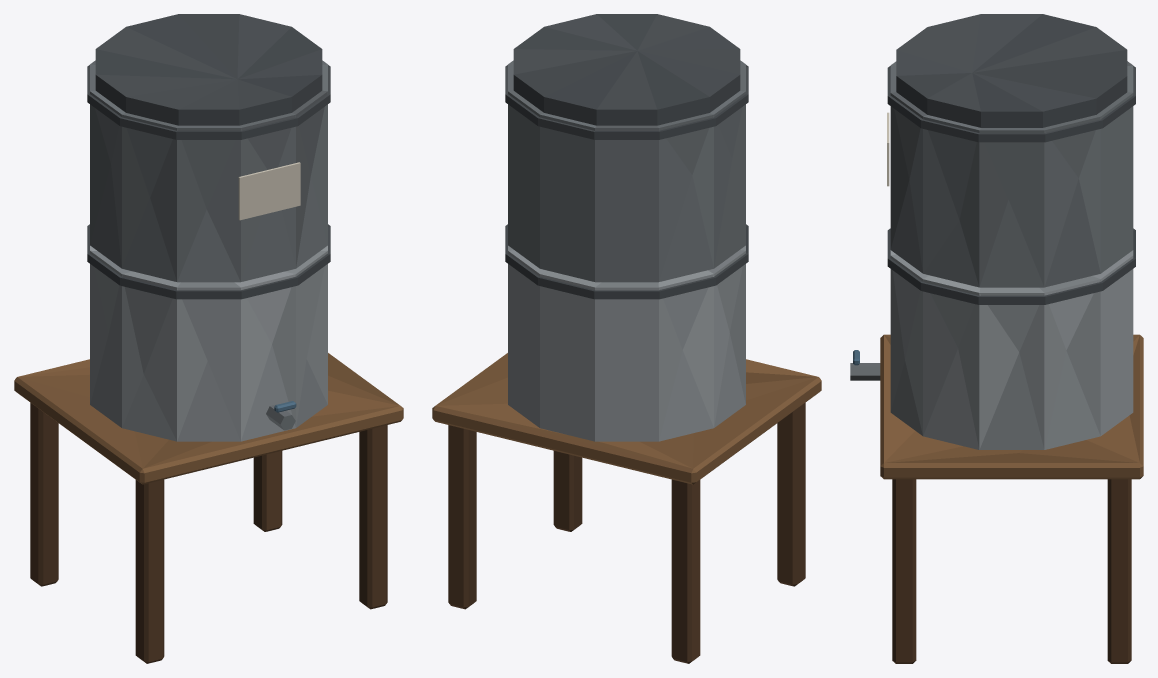
The model's file is water_purifier_keramicheskiy_filtr_idle.glb.
The picture shows the model from 3 angles, left to right: view 1: azimuth 30°, elevation 25°; view 2: azimuth 150°, elevation 25°; view 3: azimuth 270°, elevation 25°; orthographic projection.
Parts seen in each view (by area): view 1: water_purifier_keramicheskiy_filtr_idle; view 2: water_purifier_keramicheskiy_filtr_idle; view 3: water_purifier_keramicheskiy_filtr_idle.
Boxes of the visible parts, x1=… form: water_purifier_keramicheskiy_filtr_idle: x1=14, y1=14, x2=403, y2=663; water_purifier_keramicheskiy_filtr_idle: x1=432, y1=14, x2=821, y2=663; water_purifier_keramicheskiy_filtr_idle: x1=850, y1=14, x2=1143, y2=663.
Size of the model in its own units: 0.52 by 1 by 0.49.
1 material, 1 textured.
